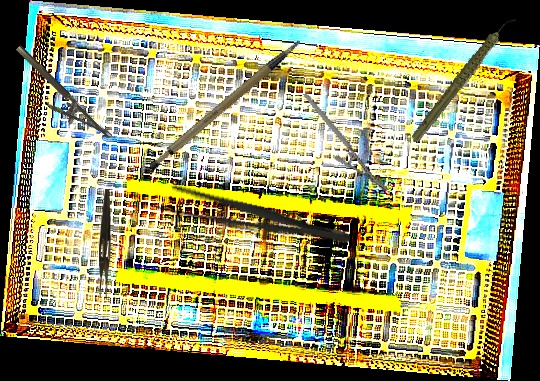Dressing Forceps: (152, 181, 354, 255), (99, 189, 111, 297)
Handpiece: (390, 14, 539, 145)
Needle Holder: (3, 43, 113, 154), (302, 77, 390, 207)
Scalpel Handle: (134, 39, 319, 174)
